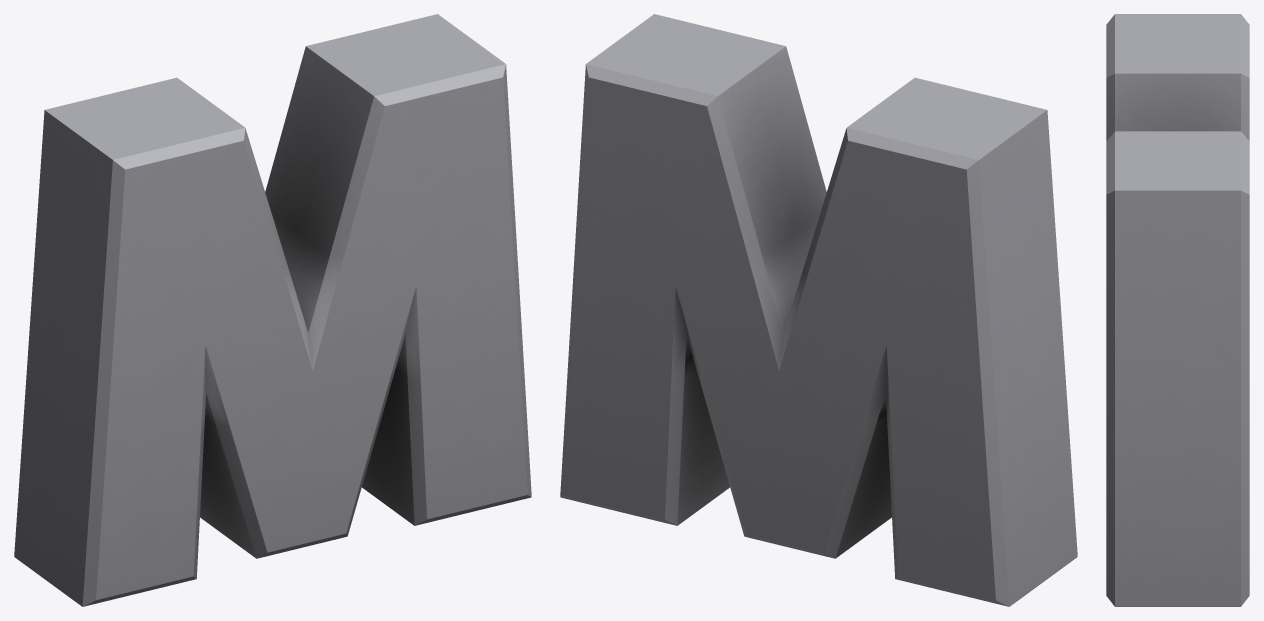
File: M_static.fbx
The picture shows the model from 3 angles, left to right: view 1: azimuth 30°, elevation 25°; view 2: azimuth 150°, elevation 25°; view 3: azimuth 270°, elevation 25°; orthographic projection. The views are drawn at different scales.
Visible parts, largest first — view 1: M_static; view 2: M_static; view 3: M_static.
Boxes of the visible parts, <box> form: M_static: <box>14,14,531,606</box>; M_static: <box>560,14,1077,606</box>; M_static: <box>1106,14,1249,606</box>.
Size of the model in its own units: 110 by 103 by 33.
